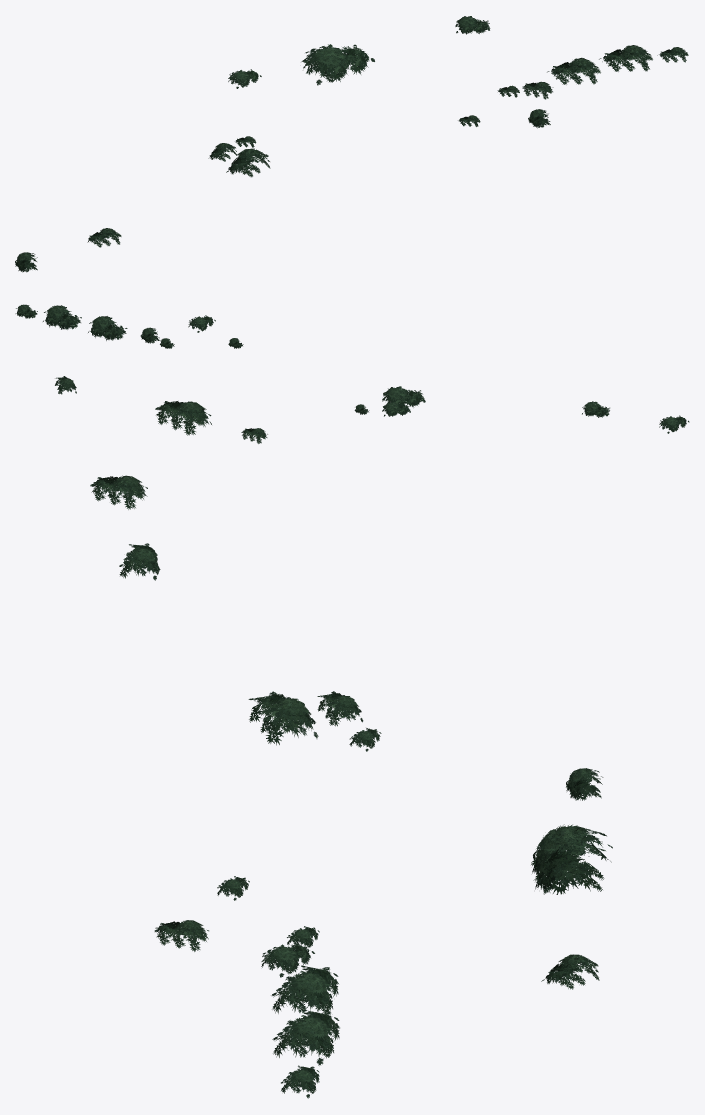
Rendered from zhibei01.fbx.
The picture shows the model from 3 angles, top to bottom: view 1: azimuth 30°, elevation 25°; view 2: azimuth 150°, elevation 25°; view 3: azimuth 270°, elevation 25°; orthographic projection. The views are drawn at different scales.
Parts seen in each view (by area): view 1: zhibei01; view 2: zhibei01; view 3: zhibei01.
Boxes of the visible parts, x1,y1,x2,y2 form: zhibei01: [15, 16, 688, 272]; zhibei01: [15, 304, 689, 443]; zhibei01: [90, 475, 612, 1098].
Bounding box in the file's own units: 11124 × 497 × 4102.
